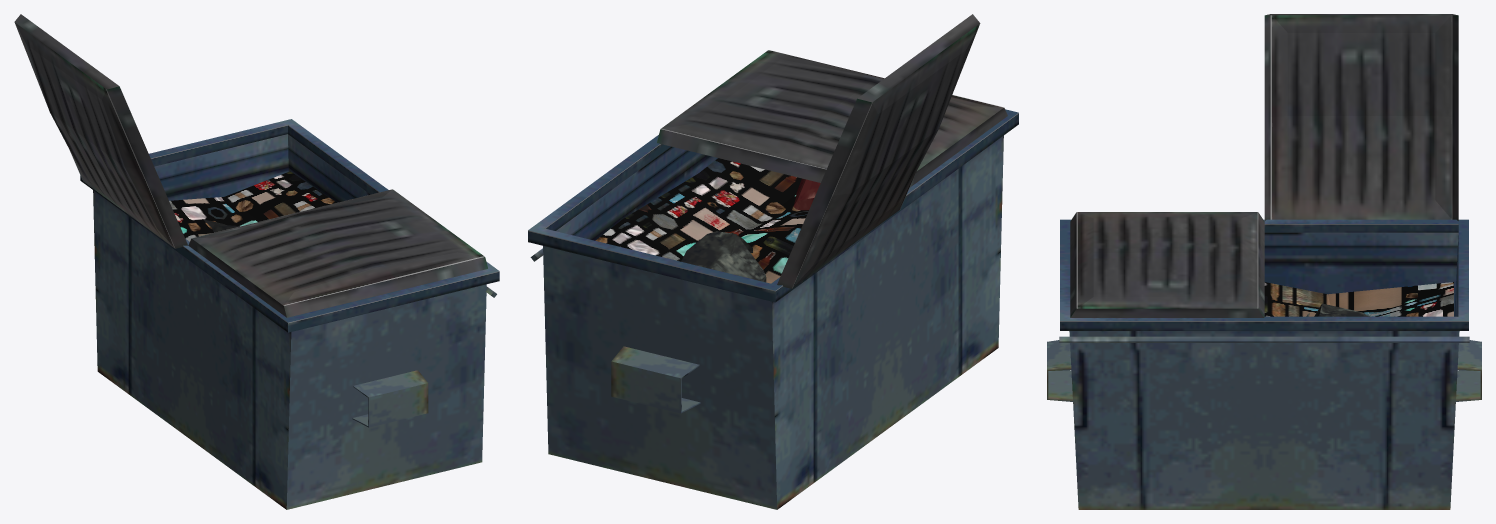
The model's file is Urban_DumpsterFullLidOpenBlue_Model.fbx.
The picture shows the model from 3 angles, left to right: view 1: azimuth 30°, elevation 25°; view 2: azimuth 150°, elevation 25°; view 3: azimuth 270°, elevation 25°; orthographic projection. The views are drawn at different scales.
Parts seen in each view (by area): view 1: Urban_DumpsterFullLidOpenBlue_Mesh; view 2: Urban_DumpsterFullLidOpenBlue_Mesh; view 3: Urban_DumpsterFullLidOpenBlue_Mesh.
Boxes of the visible parts, left/top/right/bottom form: Urban_DumpsterFullLidOpenBlue_Mesh: left=14, top=14, right=499, bottom=509; Urban_DumpsterFullLidOpenBlue_Mesh: left=528, top=14, right=1018, bottom=509; Urban_DumpsterFullLidOpenBlue_Mesh: left=1047, top=14, right=1481, bottom=509.
Bounding box in the file's own units: 2.74 × 3.41 × 3.67.
